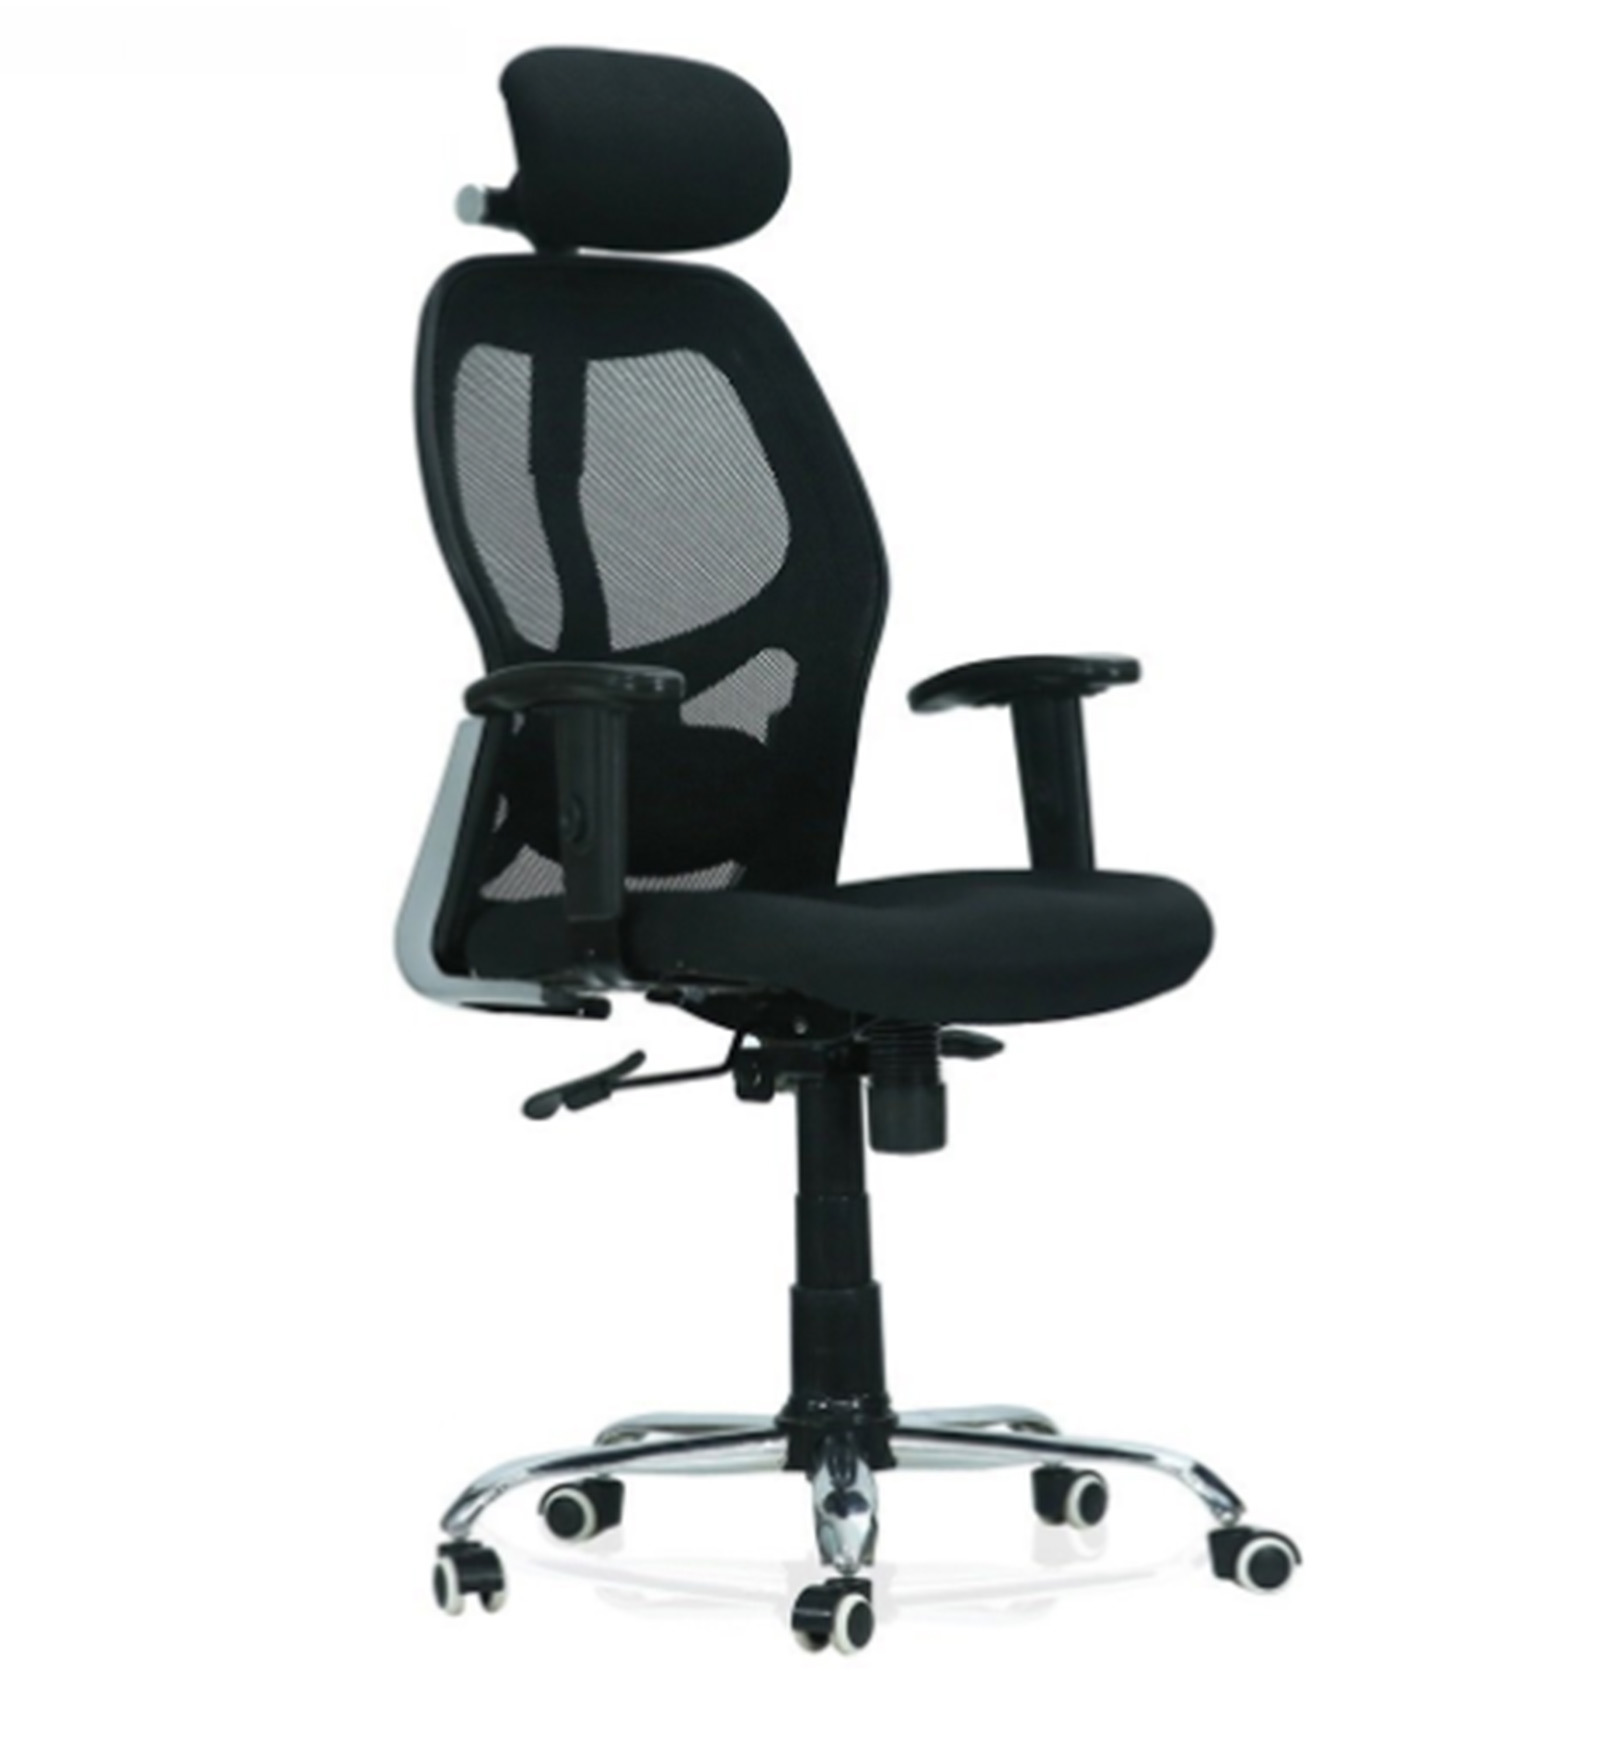Swivel High Back Ergonomic Chair with headrest In Black Colour By Furniease: (294, 31, 1387, 1722)
